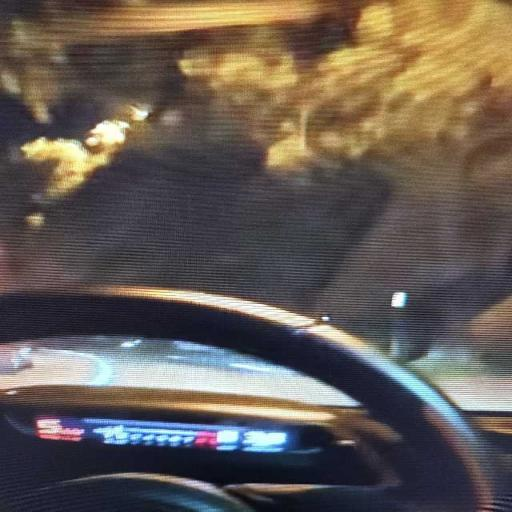car: (0, 0, 511, 511), (0, 287, 511, 511), (0, 344, 32, 373)
lane: (0, 344, 357, 406), (0, 349, 100, 388)
